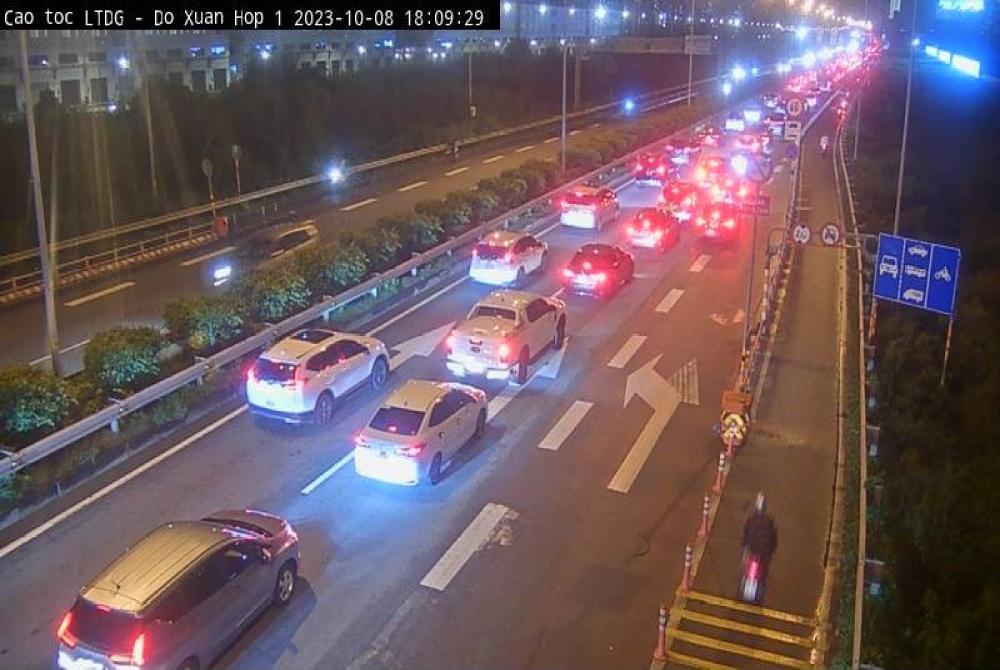car: (55, 503, 302, 670), (358, 379, 488, 494), (248, 325, 390, 429), (447, 289, 567, 387), (464, 231, 547, 287)
